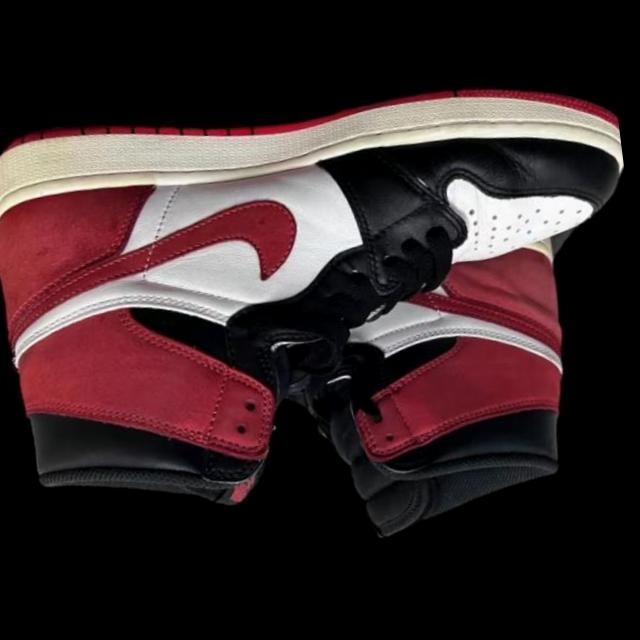nike_original_jordan: (0, 45, 640, 556), (270, 229, 618, 575)
